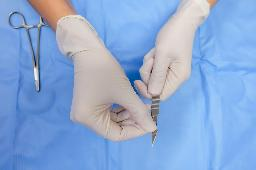scalpel: (152, 92, 160, 148)
